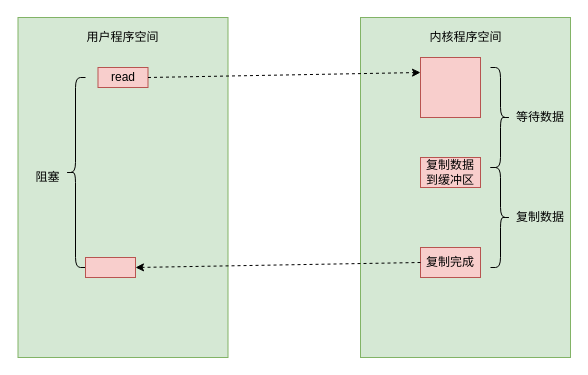
Some shapes in this 588 by 375 pixel diagram are drawn without their labels. The box of each missing label's shape, as (x1, y1, x2, y2) in pixels:
等待内核缓冲区数据: (420, 56, 480, 118)
返回: (84, 256, 136, 278)
